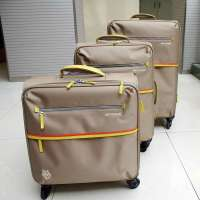suitcase: (20, 65, 142, 200)
